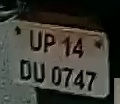0: (49, 65, 62, 88)
1: (61, 34, 72, 58)
4: (72, 65, 84, 95), (71, 37, 84, 61)
7: (85, 66, 100, 97), (62, 65, 73, 91)
D: (19, 57, 33, 83)
P: (43, 32, 57, 58)
U: (28, 27, 44, 56), (33, 59, 48, 85)
